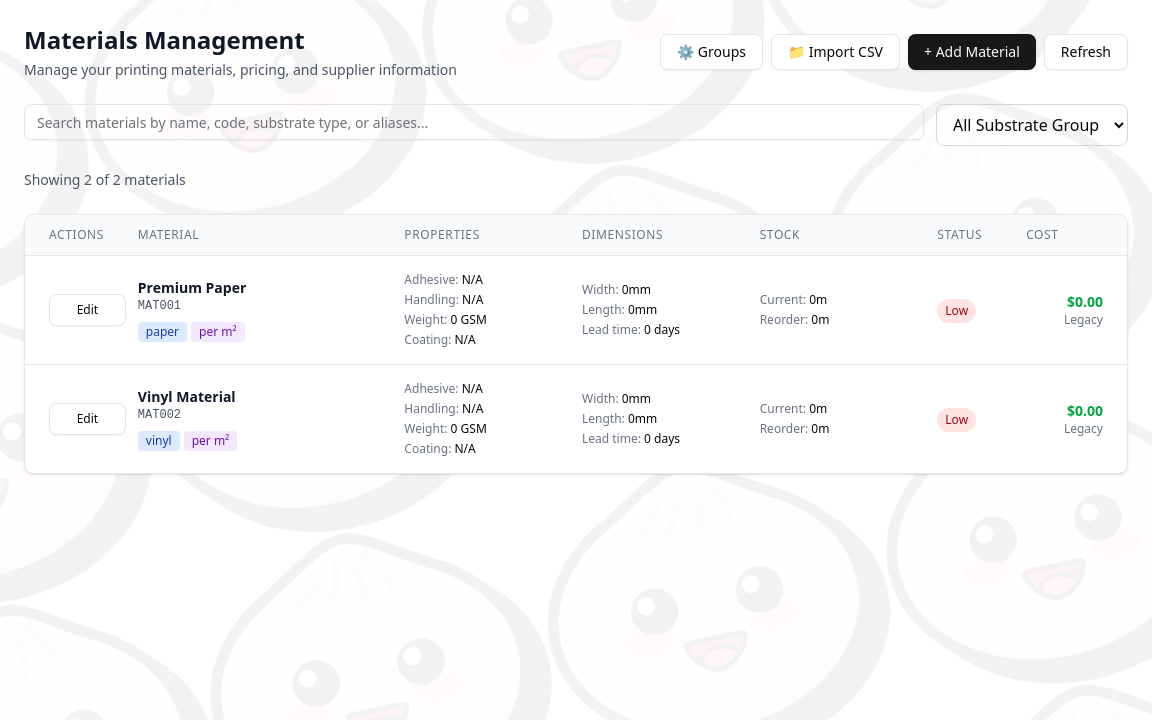
MaterialsPage › CSV Upload Modal › closes CSV upload modal
Click the button "📁 Import CSV" at (836, 52), box [771,34,900,70]
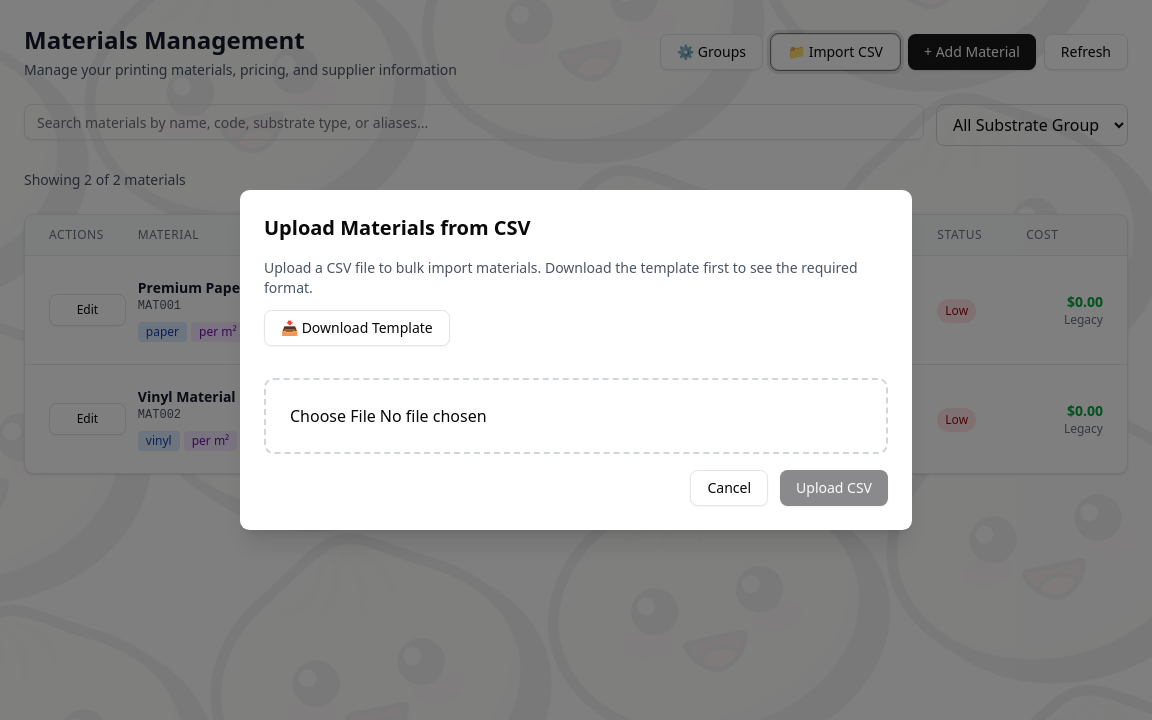
expect the heading "Upload Materials from CSV" is shown: met, box [264,214,530,241]
Click the button "Cancel" at (729, 488), box [690,470,768,506]
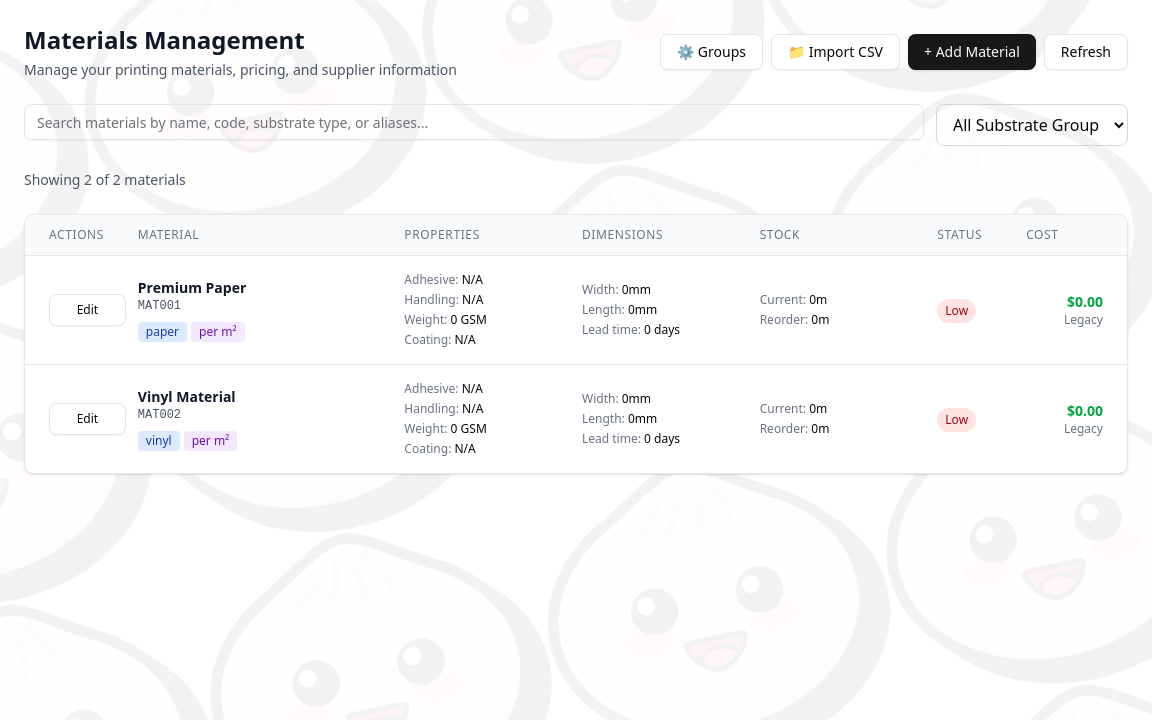
expect the heading "Upload Materials from CSV" is gone: met
